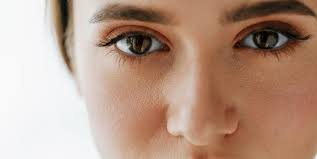pupil: (125, 33, 152, 55), (251, 30, 278, 49)
